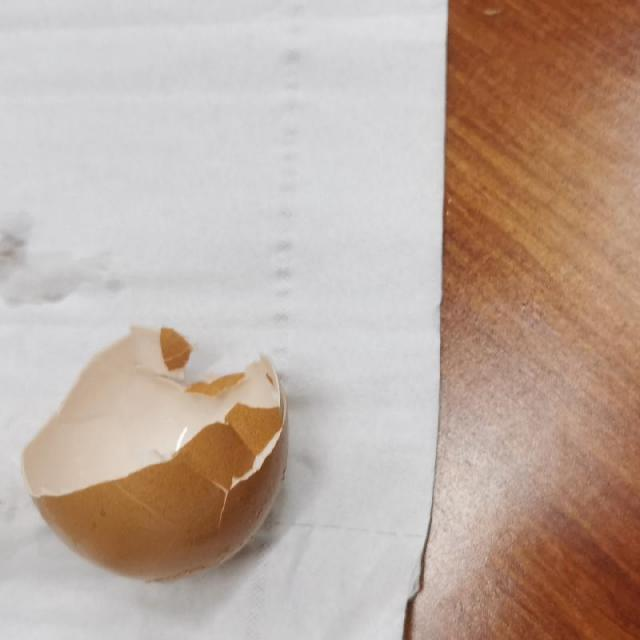egg shell: (18, 326, 294, 582)
